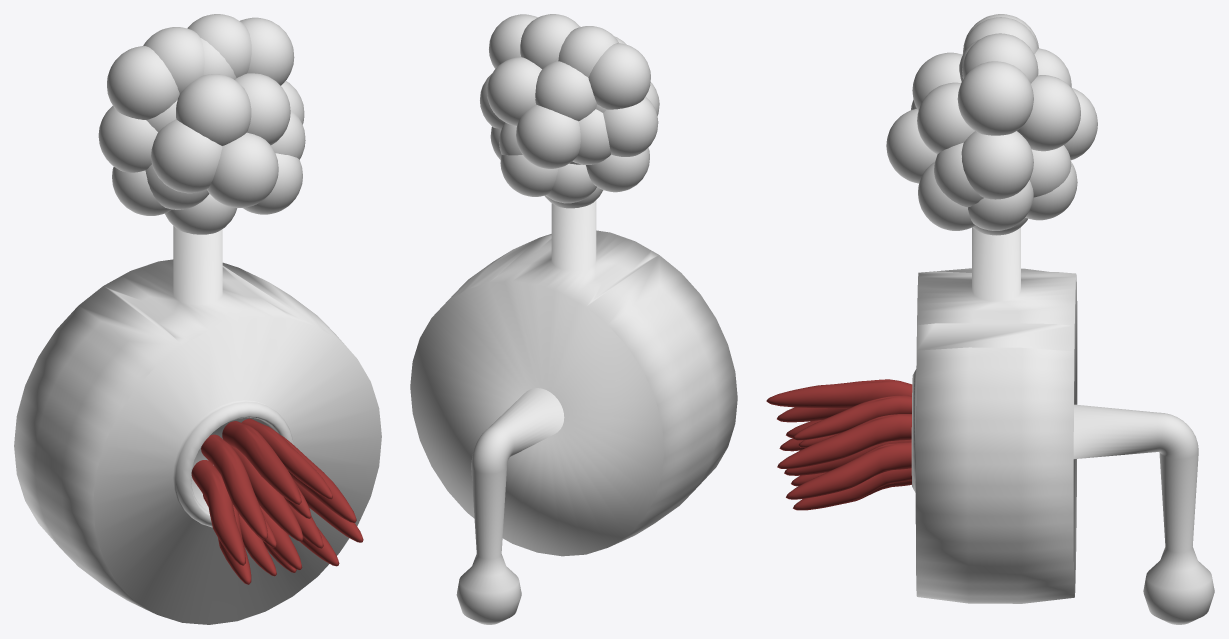
3 renders of one model, left to right at view 1: azimuth 30°, elevation 25°; view 2: azimuth 150°, elevation 25°; view 3: azimuth 270°, elevation 25°, orthographic. The views are drawn at different scales.
Visible parts, largest first — view 1: Sphere.018; view 2: Sphere.018; view 3: Sphere.018.
Part boxes in pixels (bbox=[...]): Sphere.018: bbox=[14, 14, 381, 624]; Sphere.018: bbox=[410, 14, 737, 624]; Sphere.018: bbox=[766, 14, 1214, 624].
Size of the model in its own units: 1925 by 3718 by 2556.
